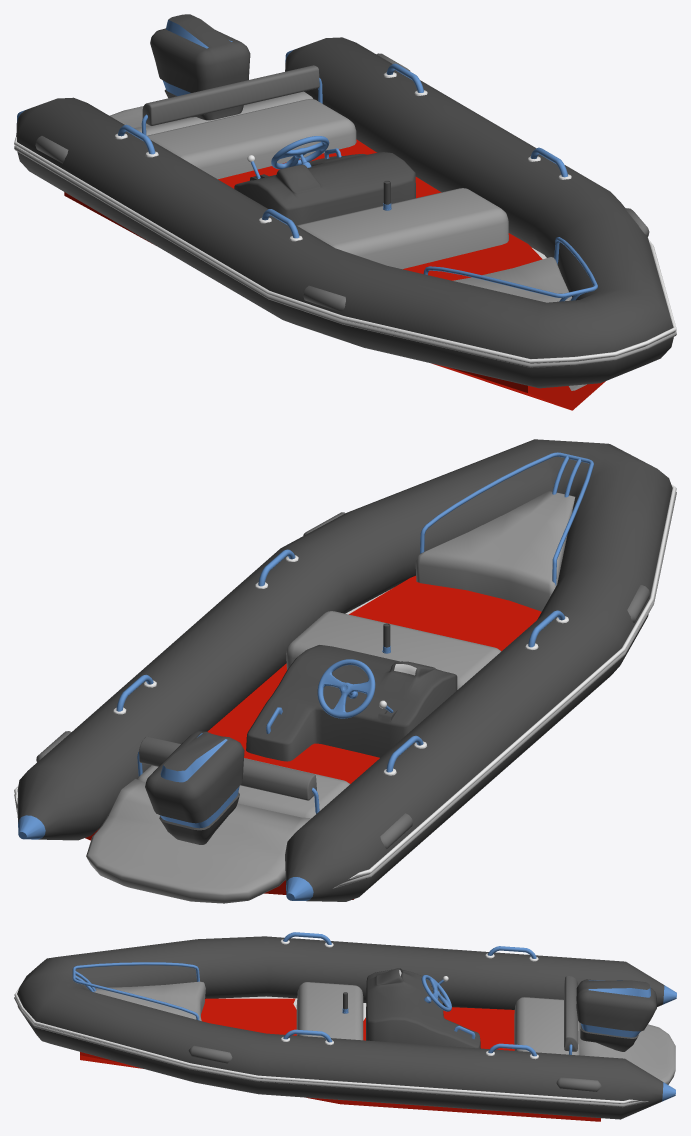
The model's file is boat_flare.fbx.
The picture shows the model from 3 angles, top to bottom: view 1: azimuth 30°, elevation 25°; view 2: azimuth 150°, elevation 25°; view 3: azimuth 270°, elevation 25°; orthographic projection. The views are drawn at different scales.
Visible parts, largest first — view 1: boat, boat_parent; view 2: boat, boat_parent; view 3: boat, boat_parent.
Part boxes in pixels (x1=…): boat: x1=14, y1=14, x2=676, y2=390; boat_parent: x1=64, y1=139, x2=605, y2=410; boat: x1=14, y1=439, x2=676, y2=903; boat_parent: x1=85, y1=575, x2=541, y2=899; boat: x1=14, y1=932, x2=676, y2=1119; boat_parent: x1=80, y1=998, x2=600, y2=1121.
Size of what is drawn, in the model's own units: 4.07 by 1.89 by 9.11.
